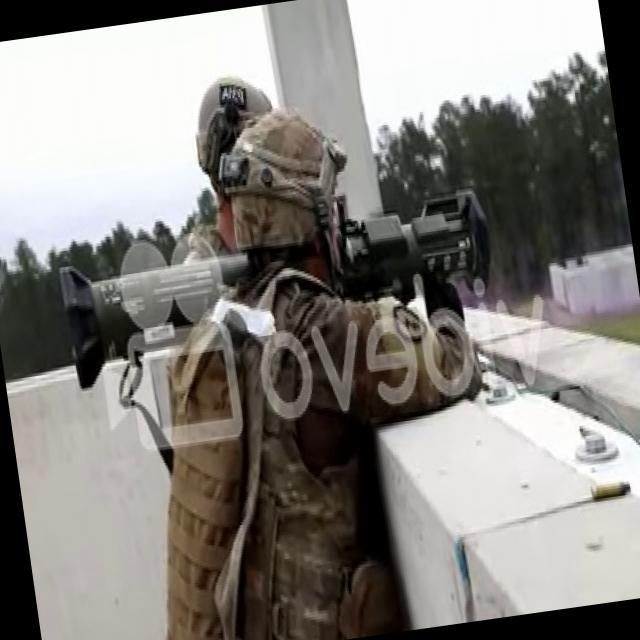rocket: (61, 186, 502, 384)
